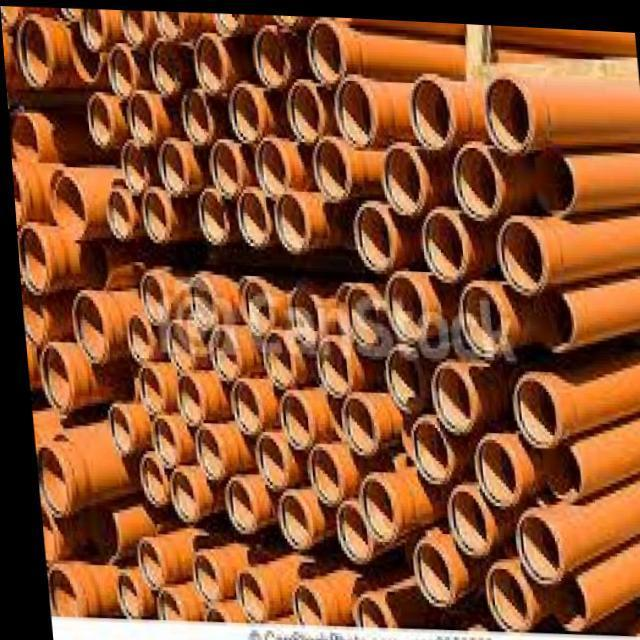pipe: (481, 70, 531, 147), (493, 213, 544, 288), (449, 140, 497, 217), (454, 276, 500, 355), (438, 480, 484, 553), (508, 508, 555, 577), (425, 355, 467, 431), (402, 412, 447, 481), (468, 431, 511, 503), (379, 137, 422, 208), (407, 69, 448, 143), (418, 207, 461, 276), (333, 74, 376, 143), (380, 270, 422, 340), (507, 372, 552, 437), (477, 559, 521, 624), (325, 496, 366, 565), (380, 343, 419, 409), (527, 283, 569, 344), (530, 147, 572, 208), (351, 199, 389, 266), (351, 471, 387, 541), (307, 16, 345, 82), (341, 283, 377, 350), (405, 537, 442, 600), (68, 291, 102, 359), (311, 136, 348, 198), (533, 436, 573, 493), (284, 277, 317, 345), (225, 80, 262, 139), (286, 78, 321, 140), (15, 224, 45, 295), (30, 445, 60, 516), (334, 393, 371, 450), (252, 25, 288, 83), (48, 176, 82, 237), (17, 18, 47, 87), (311, 335, 346, 394), (34, 345, 66, 409), (300, 441, 333, 503), (272, 388, 305, 447), (192, 32, 225, 91), (541, 570, 577, 624), (68, 17, 99, 79), (269, 486, 301, 546), (253, 136, 287, 192), (256, 329, 289, 386), (202, 323, 235, 380), (149, 36, 182, 91), (271, 193, 304, 247), (206, 141, 238, 196), (234, 280, 267, 333), (235, 186, 266, 242), (180, 84, 209, 143), (183, 275, 214, 328), (196, 189, 226, 243), (249, 432, 279, 484), (217, 478, 246, 531), (226, 567, 256, 618), (225, 379, 252, 435), (157, 140, 186, 192), (138, 189, 167, 238), (136, 270, 162, 324), (117, 140, 144, 192), (41, 567, 69, 616), (170, 372, 195, 425), (143, 415, 170, 464), (125, 91, 152, 140), (127, 538, 153, 588), (163, 469, 189, 518), (85, 512, 111, 561), (119, 314, 147, 359), (102, 191, 130, 236), (188, 425, 213, 475), (86, 93, 111, 143), (160, 319, 186, 367), (132, 364, 158, 410), (416, 313, 445, 354), (9, 115, 35, 160), (133, 456, 156, 504), (108, 46, 132, 92), (284, 583, 312, 621), (346, 592, 380, 623), (102, 402, 123, 451), (184, 553, 207, 597), (79, 8, 103, 49), (108, 571, 129, 617), (120, 9, 144, 43), (146, 588, 174, 617), (154, 11, 182, 34)
